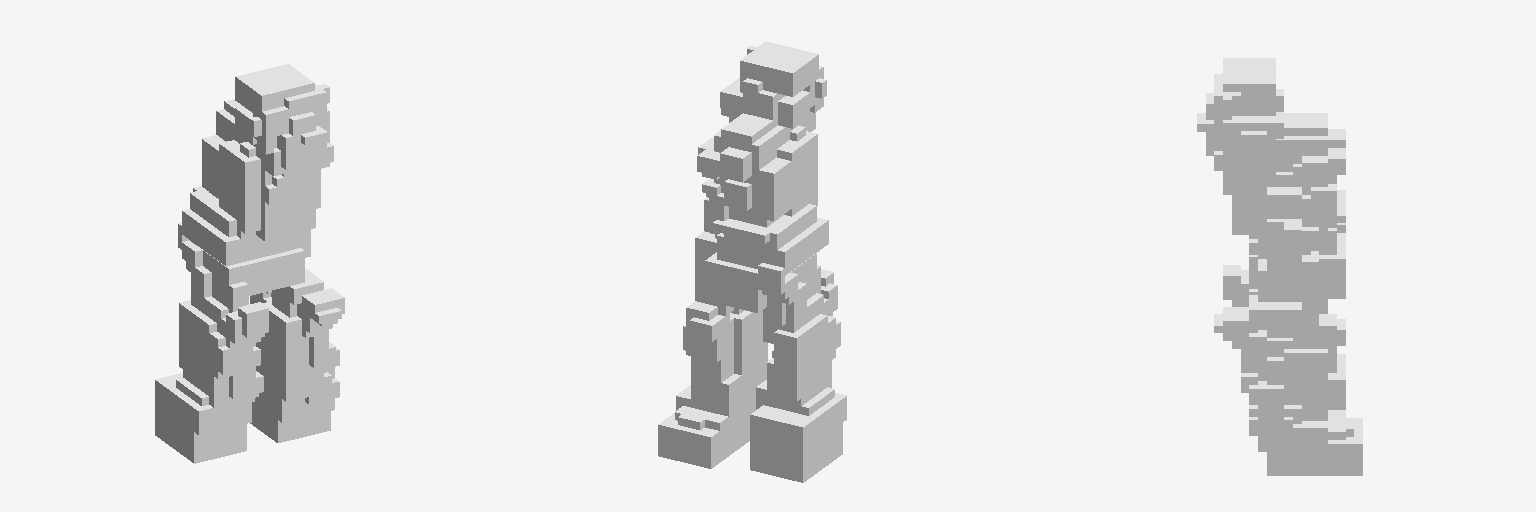
The model's file is alien.obj.
3 views of the same model, side by side, from view 1: azimuth 30°, elevation 25°; view 2: azimuth 150°, elevation 25°; view 3: azimuth 270°, elevation 25° (orthographic).
Visible parts, largest first — view 1: object 1; view 2: object 1; view 3: object 1.
Boxes of the visible parts, <box> form: object 1: <box>155,64,344,463</box>; object 1: <box>658,41,846,482</box>; object 1: <box>1197,58,1362,475</box>.
Bounding box in the file's own units: 1.8 × 4.7 × 1.9.